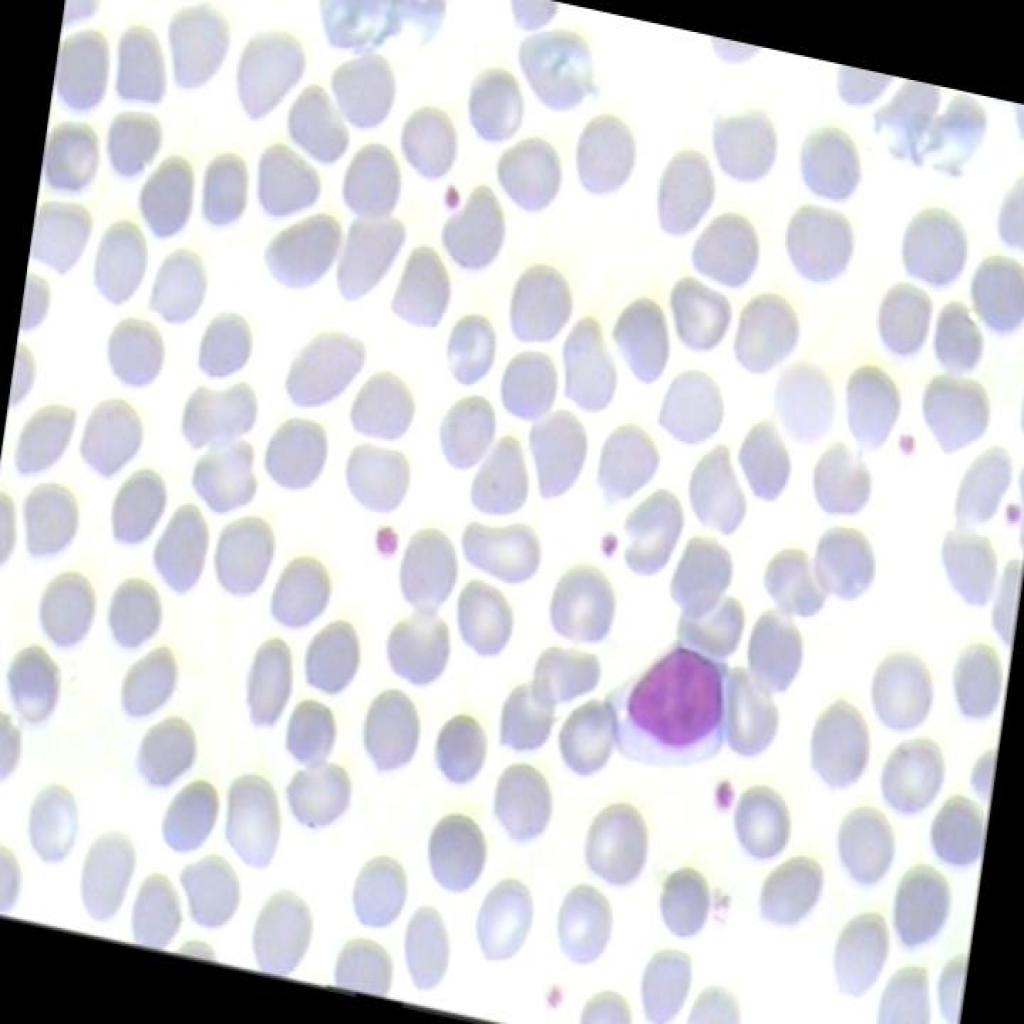Limfosit: (607, 614, 740, 772)
Platelet: (431, 167, 475, 222), (526, 972, 570, 1020), (706, 766, 740, 822), (880, 416, 923, 460), (366, 510, 400, 564), (593, 524, 626, 574), (991, 486, 1023, 532)
